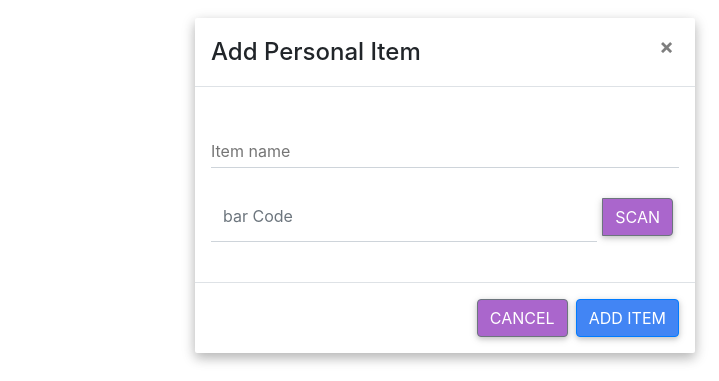
Test: clicking on scan removes modal
The width and height of the screenshot is (719, 381).
Click the button with test id "scan-personal-item". click: [638, 217]
box: [602,198,673,236]
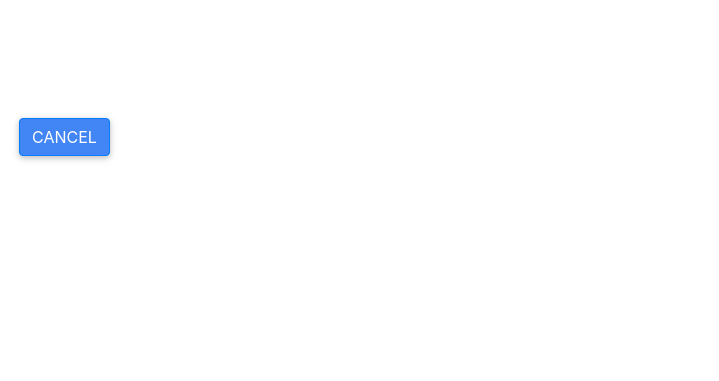
Check: the text "Add Personal Item" is gone
Check: the button with test id "add-personal-item" is gone
Check: the button with test id "scan-personal-item" is gone
